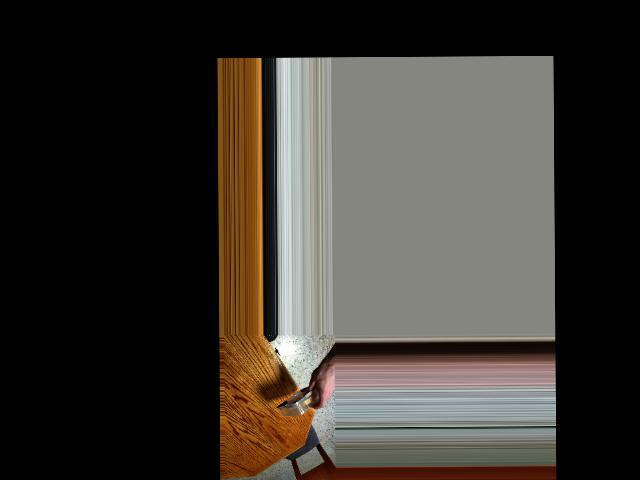cheese: (286, 370, 329, 428)
